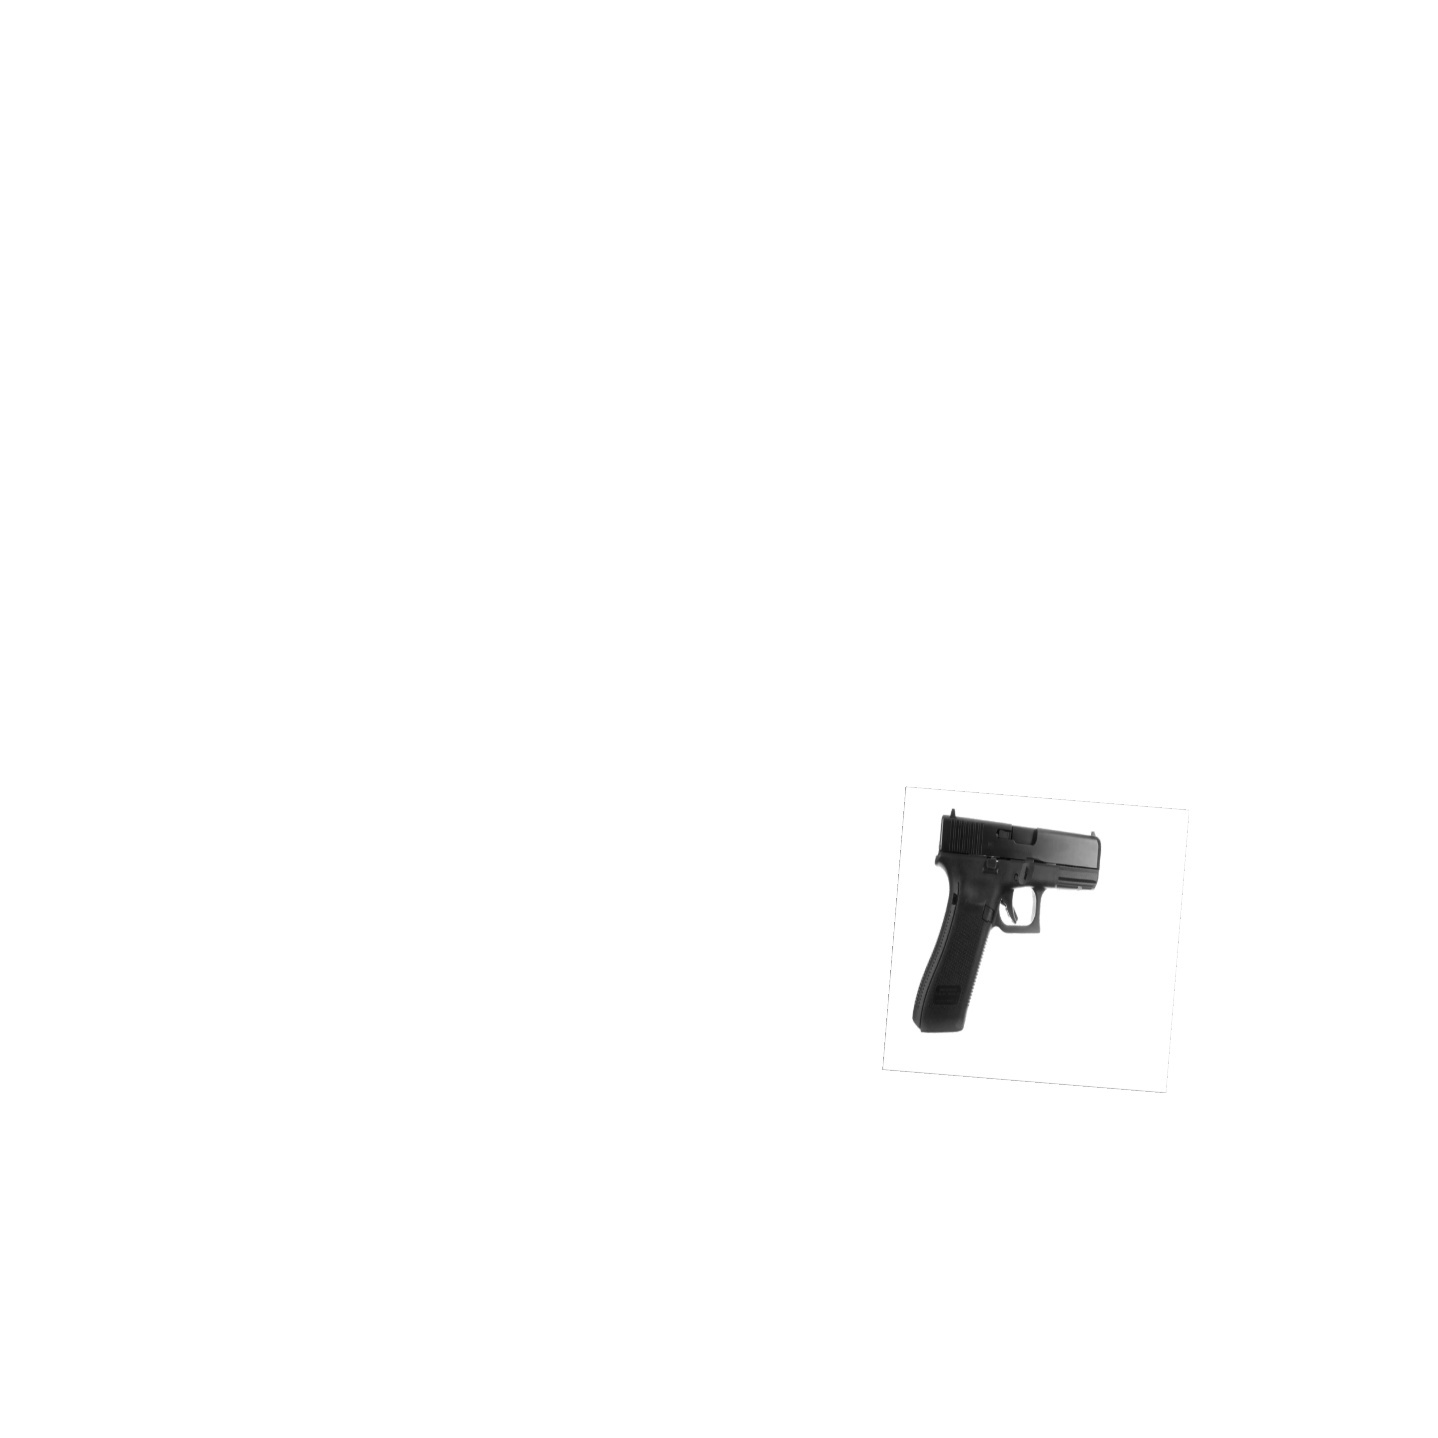gun: (909, 805, 1119, 1046)
